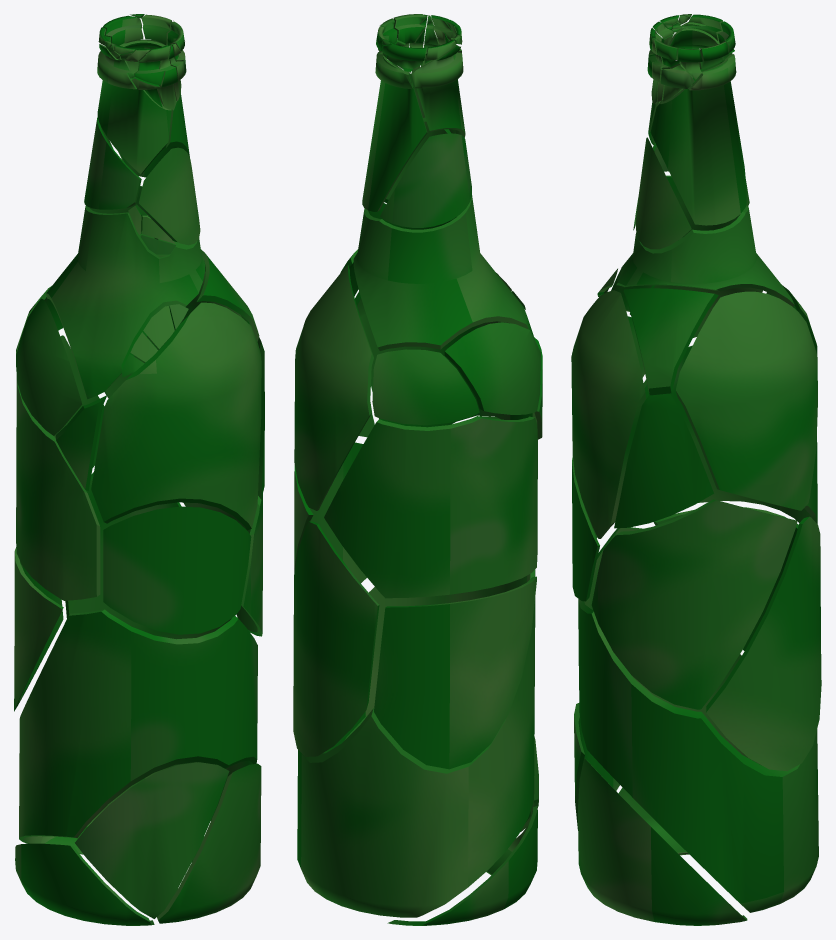
The model's file is brokenbottle.fbx.
3 renders of one model, left to right at view 1: azimuth 30°, elevation 25°; view 2: azimuth 150°, elevation 25°; view 3: azimuth 270°, elevation 25°, orthographic.
Visible parts, largest first — view 1: Circle.001_cell.024, Circle.001_cell.017, Circle.001_cell.023, Circle.001_cell.005, Circle.001_cell.040, Circle.001_cell.012, Circle.001_cell.010, Circle.001_cell.025, Circle.001_cell.020, Circle.001_cell.036, Circle.001_cell.028, Circle.001_cell.008 (+13 smaller); view 2: Circle.001_cell.024, Circle.001_cell.012, Circle.001_cell.028, Circle.001_cell.023, Circle.001_cell.014, Circle.001_cell.027, Circle.001_cell.020, Circle.001_cell.003, Circle.001_cell.006, Circle.001_cell.004, Circle.001_cell.025, Circle.001_cell.036 (+4 smaller); view 3: Circle.001_cell.024, Circle.001_cell.001, Circle.001_cell.027, Circle.001_cell.014, Circle.001_cell.010, Circle.001_cell.017, Circle.001_cell.004, Circle.001_cell.023, Circle.001_cell.013, Circle.001_cell.033, Circle.001_cell.008, Circle.001_cell.005 (+10 smaller).
Part boxes in pixels (x1=…): Circle.001_cell.024: x1=19, y1=609, x2=257, y2=854; Circle.001_cell.017: x1=91, y1=302, x2=261, y2=530; Circle.001_cell.023: x1=46, y1=186, x2=204, y2=399; Circle.001_cell.005: x1=103, y1=506, x2=251, y2=634; Circle.001_cell.040: x1=75, y1=762, x2=229, y2=918; Circle.001_cell.012: x1=16, y1=335, x2=104, y2=600; Circle.001_cell.010: x1=157, y1=763, x2=261, y2=923; Circle.001_cell.025: x1=15, y1=843, x2=154, y2=925; Circle.001_cell.020: x1=16, y1=298, x2=82, y2=435; Circle.001_cell.036: x1=97, y1=44, x2=171, y2=174; Circle.001_cell.028: x1=14, y1=547, x2=63, y2=711; Circle.001_cell.008: x1=139, y1=147, x2=200, y2=245; Circle.001_cell.024: x1=297, y1=569, x2=535, y2=917; Circle.001_cell.012: x1=324, y1=416, x2=537, y2=598; Circle.001_cell.028: x1=374, y1=576, x2=536, y2=769; Circle.001_cell.023: x1=353, y1=195, x2=534, y2=350; Circle.001_cell.014: x1=293, y1=521, x2=379, y2=756; Circle.001_cell.027: x1=294, y1=265, x2=373, y2=510; Circle.001_cell.020: x1=444, y1=322, x2=540, y2=414; Circle.001_cell.003: x1=372, y1=349, x2=479, y2=425; Circle.001_cell.006: x1=380, y1=133, x2=471, y2=227; Circle.001_cell.004: x1=362, y1=52, x2=427, y2=211; Circle.001_cell.025: x1=387, y1=806, x2=537, y2=925; Circle.001_cell.036: x1=411, y1=46, x2=465, y2=137; Circle.001_cell.024: x1=578, y1=527, x2=818, y2=912; Circle.001_cell.001: x1=591, y1=499, x2=797, y2=709; Circle.001_cell.027: x1=675, y1=291, x2=817, y2=510; Circle.001_cell.014: x1=706, y1=516, x2=821, y2=771; Circle.001_cell.010: x1=578, y1=758, x2=747, y2=925; Circle.001_cell.017: x1=571, y1=290, x2=646, y2=538; Circle.001_cell.004: x1=650, y1=54, x2=746, y2=225; Circle.001_cell.023: x1=611, y1=175, x2=794, y2=311; Circle.001_cell.013: x1=614, y1=394, x2=713, y2=528; Circle.001_cell.033: x1=623, y1=288, x2=718, y2=395; Circle.001_cell.008: x1=636, y1=137, x2=691, y2=249; Circle.001_cell.005: x1=572, y1=456, x2=599, y2=601.
Size of the model in its own units: 206 by 785 by 207.
Materials: 1 (1 with a texture image).
